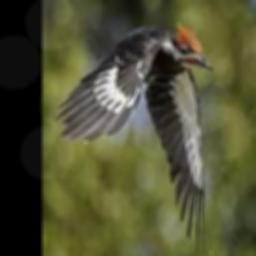Woodpecker: (54, 21, 213, 256)
